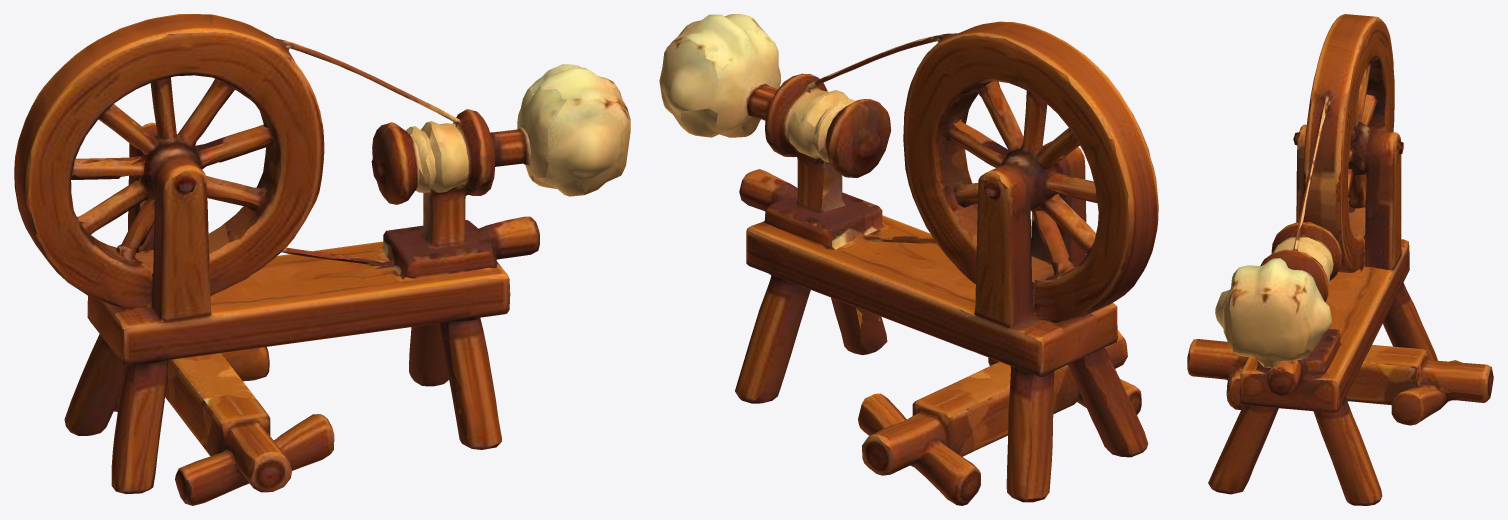
File: spinning_wheel.glb
3 renders of one model, left to right at view 1: azimuth 30°, elevation 25°; view 2: azimuth 150°, elevation 25°; view 3: azimuth 270°, elevation 25°, orthographic. The views are drawn at different scales.
Parts seen in each view (by area): view 1: spinning_wheel; view 2: spinning_wheel; view 3: spinning_wheel.
Boxes of the visible parts, x1,y1,x2,y2 form: spinning_wheel: [14, 14, 630, 505]; spinning_wheel: [659, 14, 1158, 505]; spinning_wheel: [1187, 14, 1493, 505].
Size of the model in its own units: 1 by 0.76 by 0.575.
Materials: 1 (1 with a texture image).
